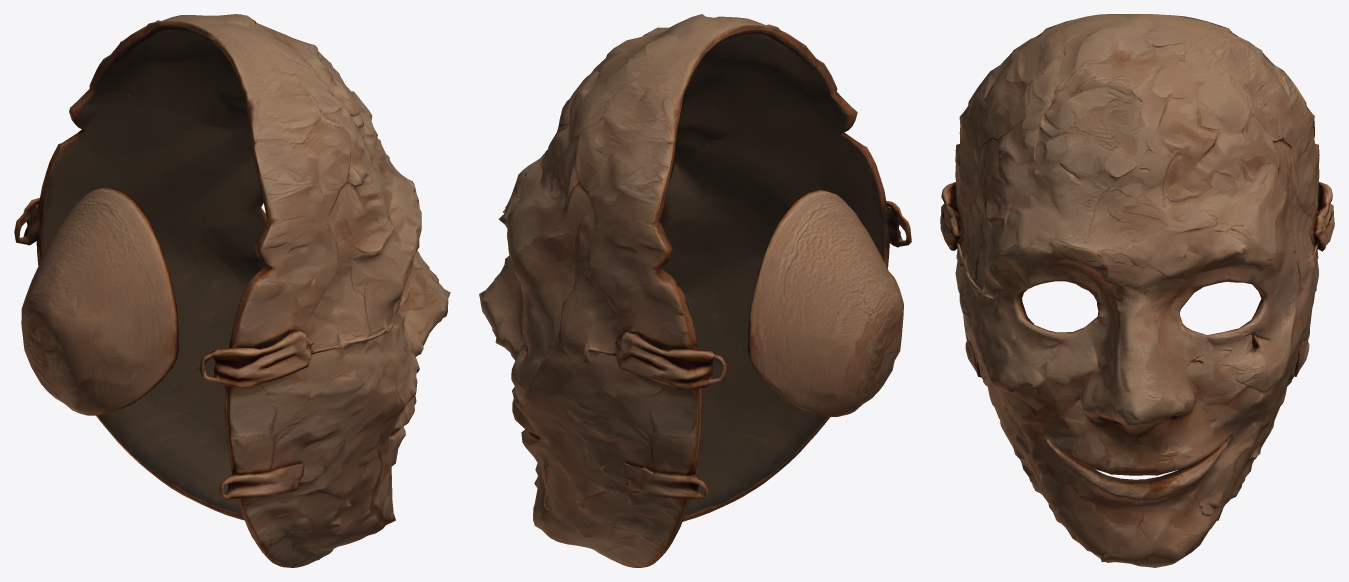
3 views of the same model, side by side, from view 1: azimuth 30°, elevation 25°; view 2: azimuth 150°, elevation 25°; view 3: azimuth 270°, elevation 25° (orthographic). The views are drawn at different scales.
Visible parts, largest first — view 1: tripo_node_7f1ffeff-e863-45bf-958f-8038bce4c2fe; view 2: tripo_node_7f1ffeff-e863-45bf-958f-8038bce4c2fe; view 3: tripo_node_7f1ffeff-e863-45bf-958f-8038bce4c2fe.
Boxes of the visible parts, x1=… form: tripo_node_7f1ffeff-e863-45bf-958f-8038bce4c2fe: x1=14, y1=14, x2=450, y2=567; tripo_node_7f1ffeff-e863-45bf-958f-8038bce4c2fe: x1=479, y1=14, x2=911, y2=567; tripo_node_7f1ffeff-e863-45bf-958f-8038bce4c2fe: x1=940, y1=14, x2=1334, y2=567.
Bounding box in the file's own units: 0.8046 × 1 × 0.7202.
Materials: 1 (1 with a texture image).
